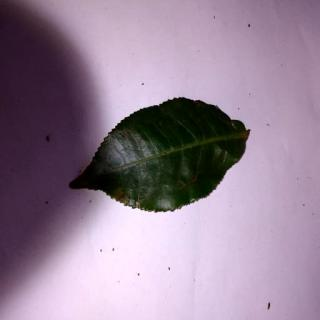Bird Eye Spot: (70, 96, 253, 216)
